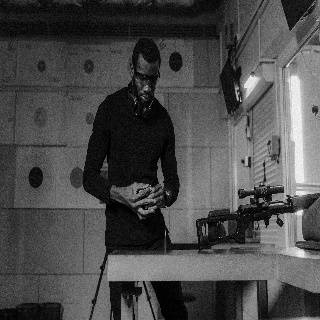rifle: (196, 182, 320, 251)
